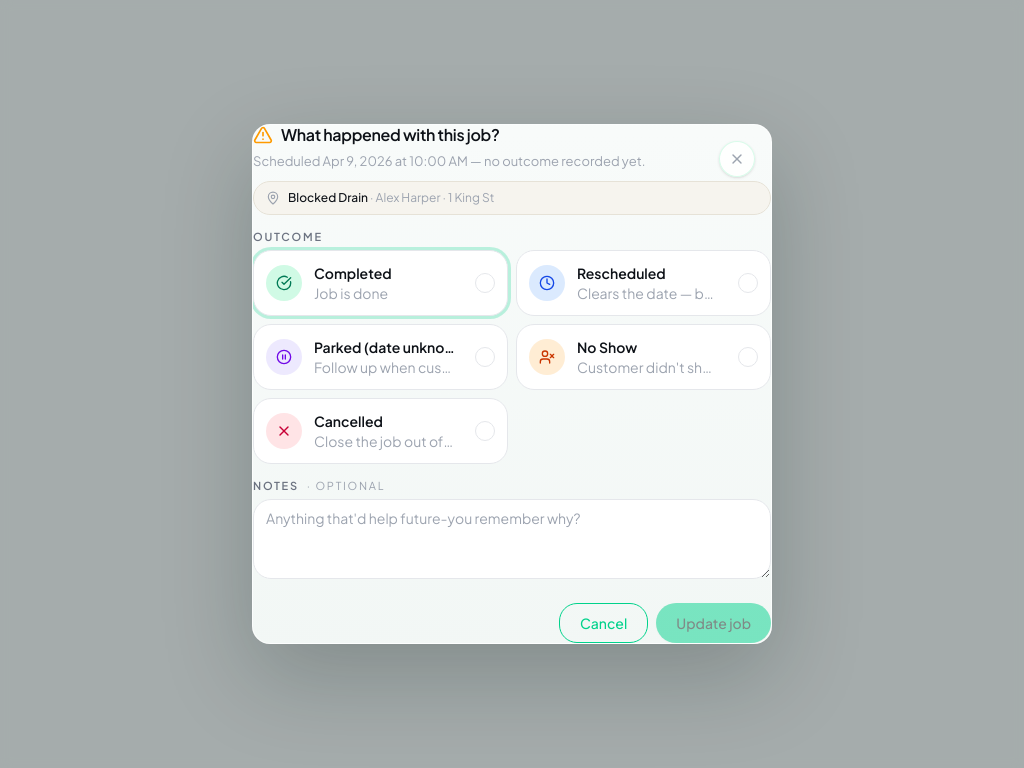
StaleJobReconciliationModal › disables the primary action until an outcome is picked
Expected: the button "Update job" is disabled, [656,603,771,643]
Click the radio button labelled "Completed Job is done": (380, 283) [253,250,508,316]
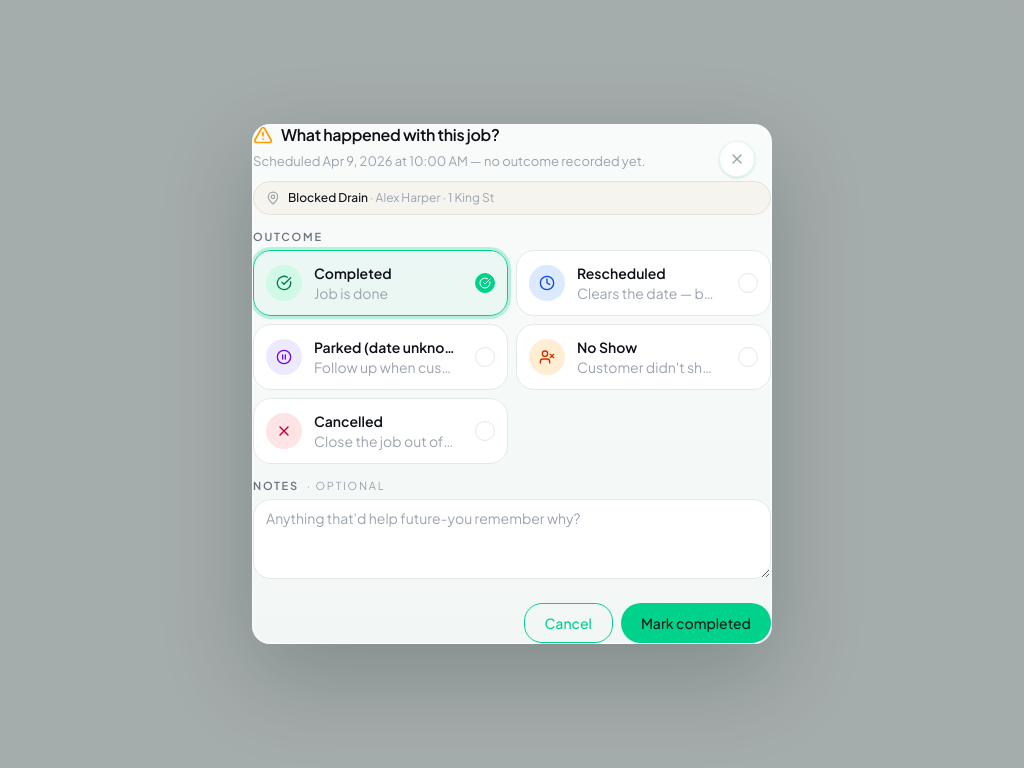
Expected: the button "Mark completed" is enabled, [621,603,771,643]
